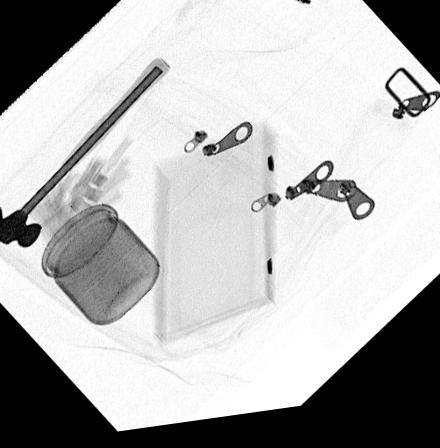Hammer: (0, 59, 171, 249)
